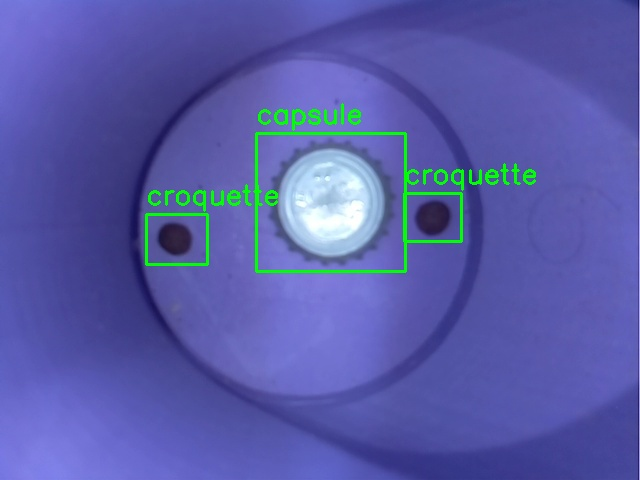capsule: (256, 133, 405, 271)
croquette: (146, 214, 207, 264), (404, 193, 461, 241)
